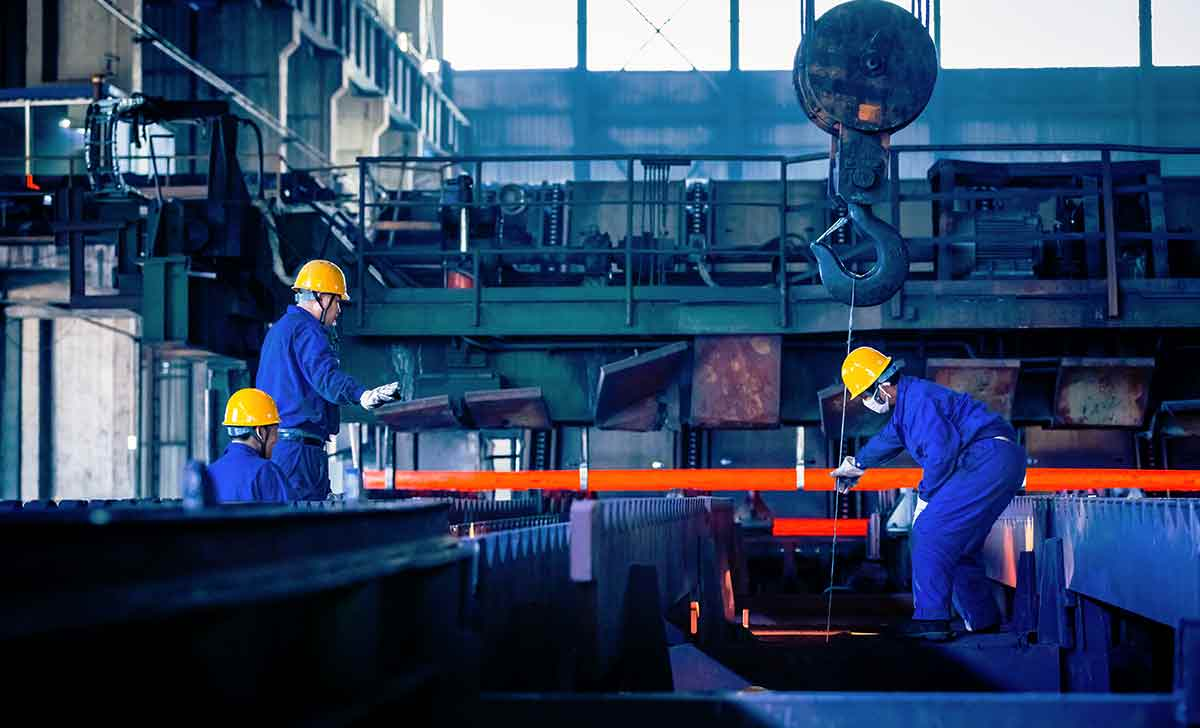Casco de seguridad: (834, 331, 911, 407), (286, 248, 366, 312), (217, 380, 288, 441)
